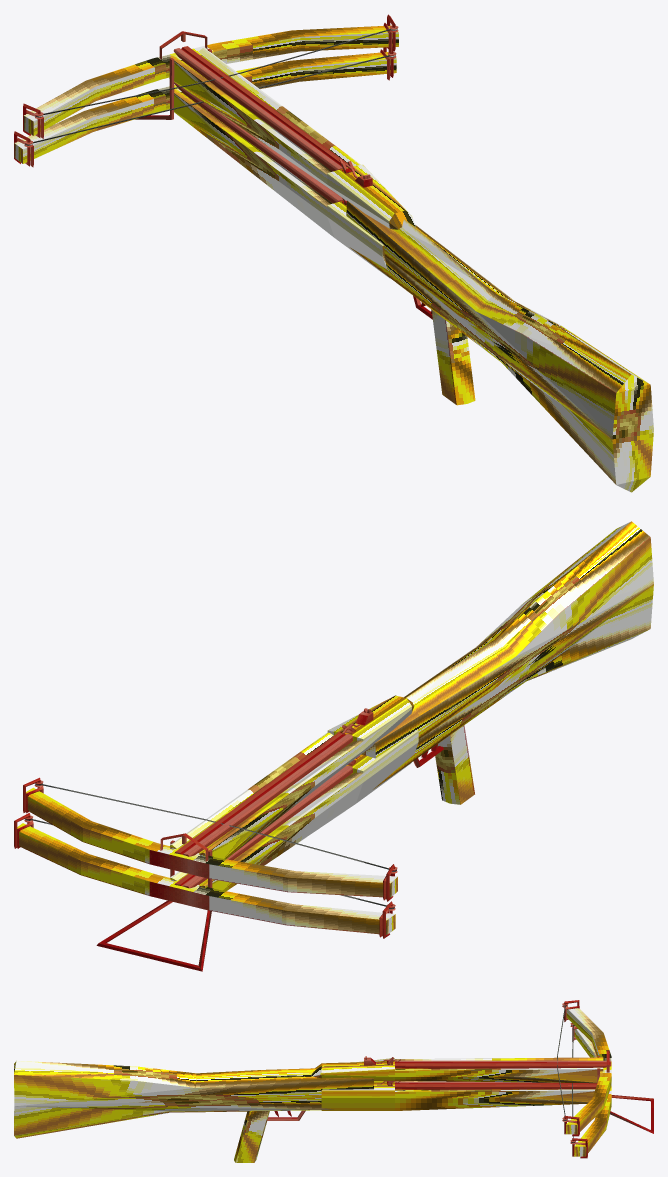
Rendered from double_crossbow_stretching_upper_1.obj.
3 renders of one model, top to bottom at view 1: azimuth 30°, elevation 25°; view 2: azimuth 150°, elevation 25°; view 3: azimuth 270°, elevation 25°, orthographic. The views are drawn at different scales.
Visible parts, largest first — view 1: Torus.009_Torus.008, Torus.000, Torus.001_Torus.007; view 2: Torus.009_Torus.008, Torus.001_Torus.007, Torus.000; view 3: Torus.009_Torus.008, Torus.000, Torus.001_Torus.007.
Boxes of the visible parts, x1,y1,x2,y2 form: Torus.009_Torus.008: [339, 159, 653, 492]; Torus.000: [135, 31, 415, 278]; Torus.001_Torus.007: [14, 14, 398, 167]; Torus.009_Torus.008: [340, 521, 653, 804]; Torus.001_Torus.007: [14, 777, 397, 938]; Torus.000: [96, 695, 418, 971]; Torus.009_Torus.008: [14, 1056, 400, 1162]; Torus.000: [311, 1050, 653, 1133]; Torus.001_Torus.007: [557, 1000, 611, 1158].
Size of the model in its own units: 3.45 by 1.45 by 7.77.
